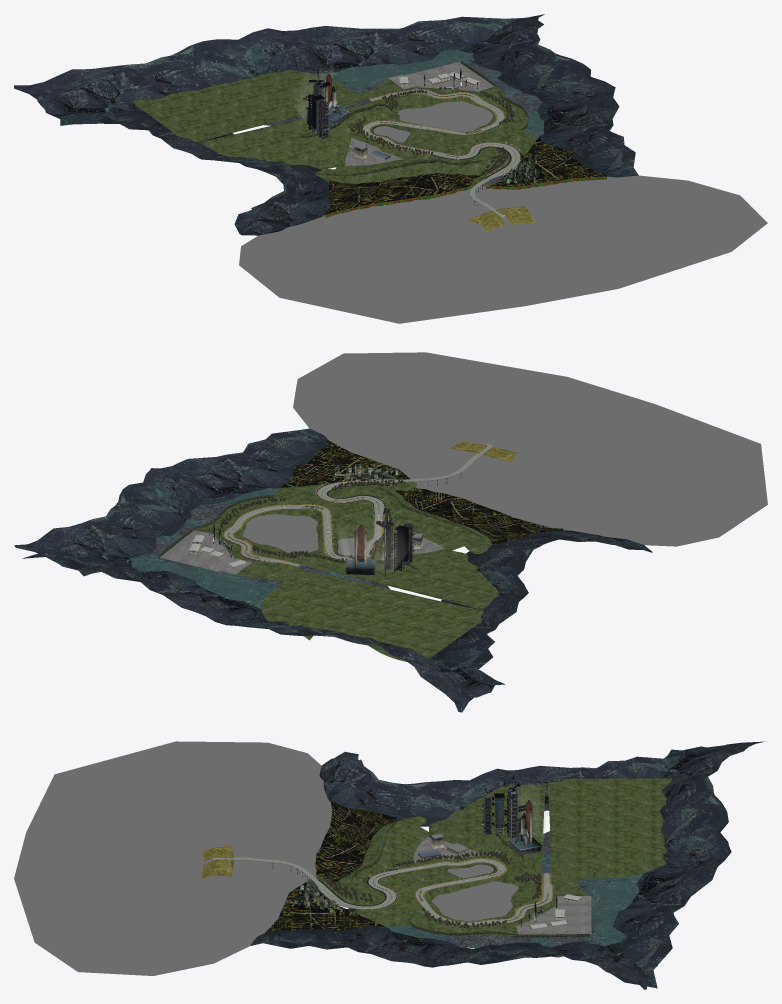
Rendered from stage-flor.glb.
The picture shows the model from 3 angles, top to bottom: view 1: azimuth 30°, elevation 25°; view 2: azimuth 150°, elevation 25°; view 3: azimuth 270°, elevation 25°; orthographic projection. The views are drawn at different scales.
Parts seen in each view (by area): view 1: part 1, part 4, part 0, part 5; view 2: part 1, part 4, part 0, part 5; view 3: part 1, part 4, part 0, part 5.
Boxes of the visible parts, bbox=[...] form: part 1: bbox=[14, 14, 638, 235]; part 4: bbox=[239, 101, 767, 323]; part 0: bbox=[362, 80, 520, 217]; part 5: bbox=[298, 70, 348, 139]; part 1: bbox=[14, 428, 652, 712]; part 4: bbox=[242, 352, 767, 555]; part 0: bbox=[194, 446, 491, 571]; part 5: bbox=[340, 509, 414, 576]; part 1: bbox=[201, 741, 765, 989]; part 4: bbox=[14, 741, 518, 975]; part 0: bbox=[214, 857, 583, 931]; part 5: bbox=[481, 776, 545, 854].
Size of the model in its own units: 3553 by 529 by 4474.
154 materials, 150 textured.
